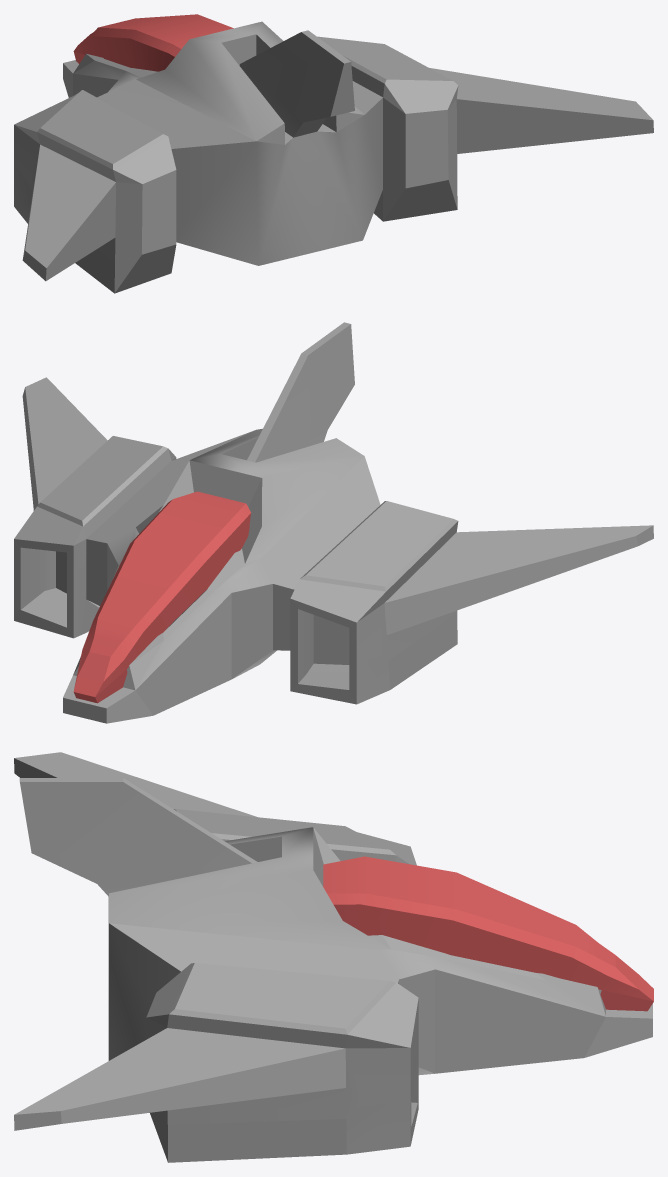
File: Airplane.fbx
3 views of the same model, one above another, from view 1: azimuth 30°, elevation 25°; view 2: azimuth 150°, elevation 25°; view 3: azimuth 270°, elevation 25° (orthographic). The views are drawn at different scales.
Visible parts, largest first — view 1: body, glass4; view 2: body, glass4; view 3: body, glass4.
Boxes of the visible parts, x1=… form: body: x1=14, y1=21, x2=653, y2=293; glass4: x1=73, y1=14, x2=233, y2=71; body: x1=14, y1=322, x2=653, y2=723; glass4: x1=73, y1=491, x2=250, y2=703; body: x1=14, y1=752, x2=652, y2=1162; glass4: x1=323, y1=856, x2=653, y2=1011.
Size of the model in its own units: 16.27 by 5.98 by 12.17.
